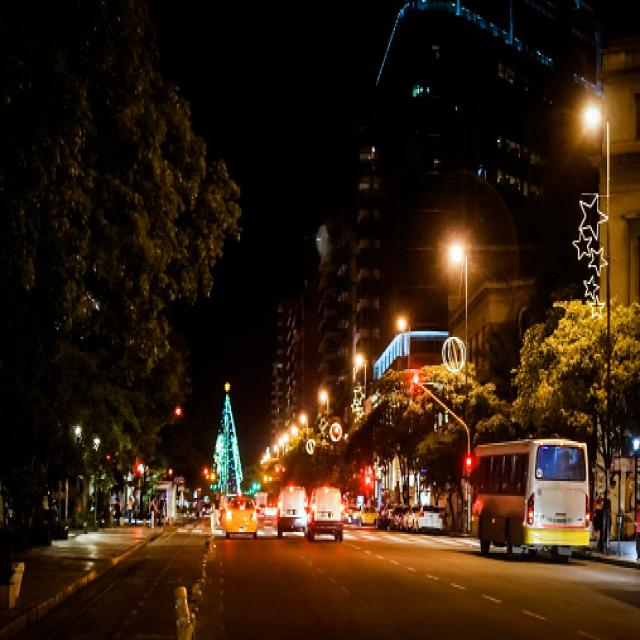Bus: (468, 425, 596, 564)
car: (309, 470, 346, 562), (275, 467, 308, 561), (217, 490, 262, 553), (406, 498, 452, 548), (386, 490, 419, 551), (358, 485, 386, 555)
